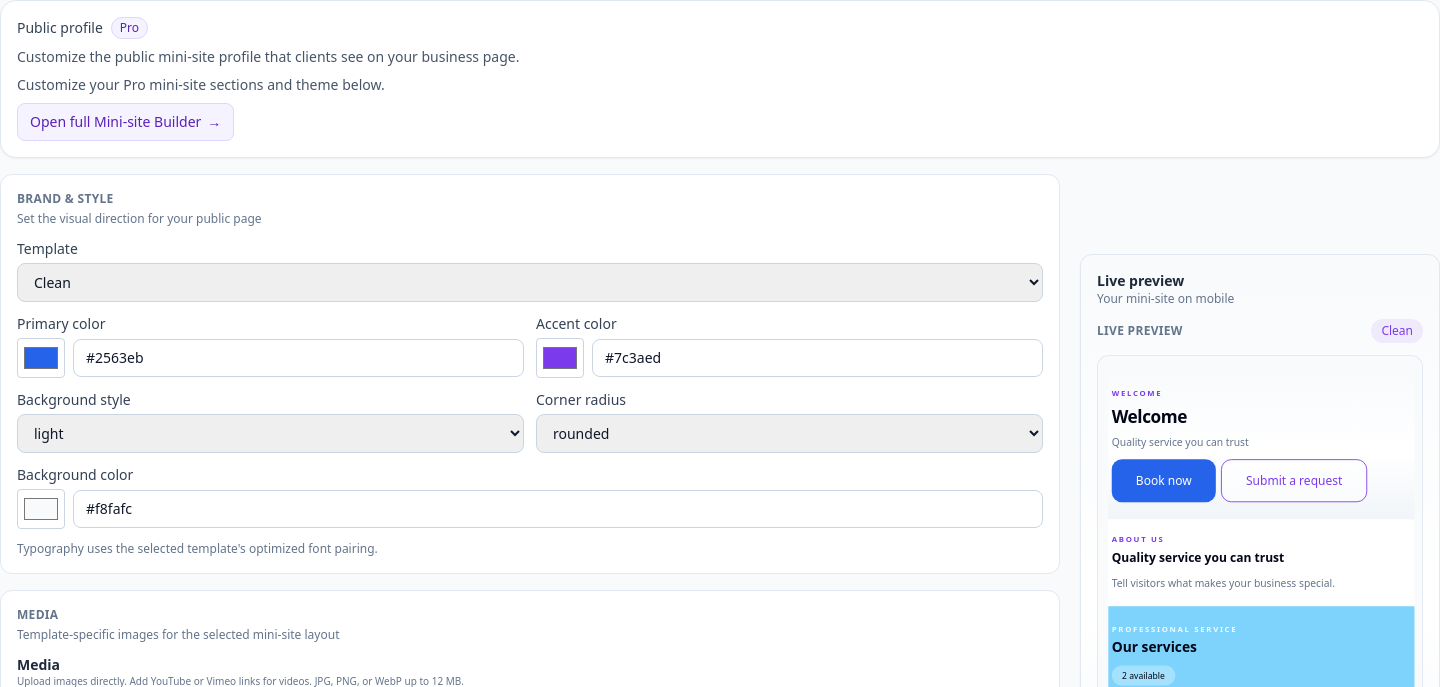
Test: PublicProfileSettingsCard › shows teacher video slots when teacher template is selected
Select "Teacher" in the dropdown with test id "mini-site-template" at (530, 282), box [17,263,1043,302]
(page scrolled)
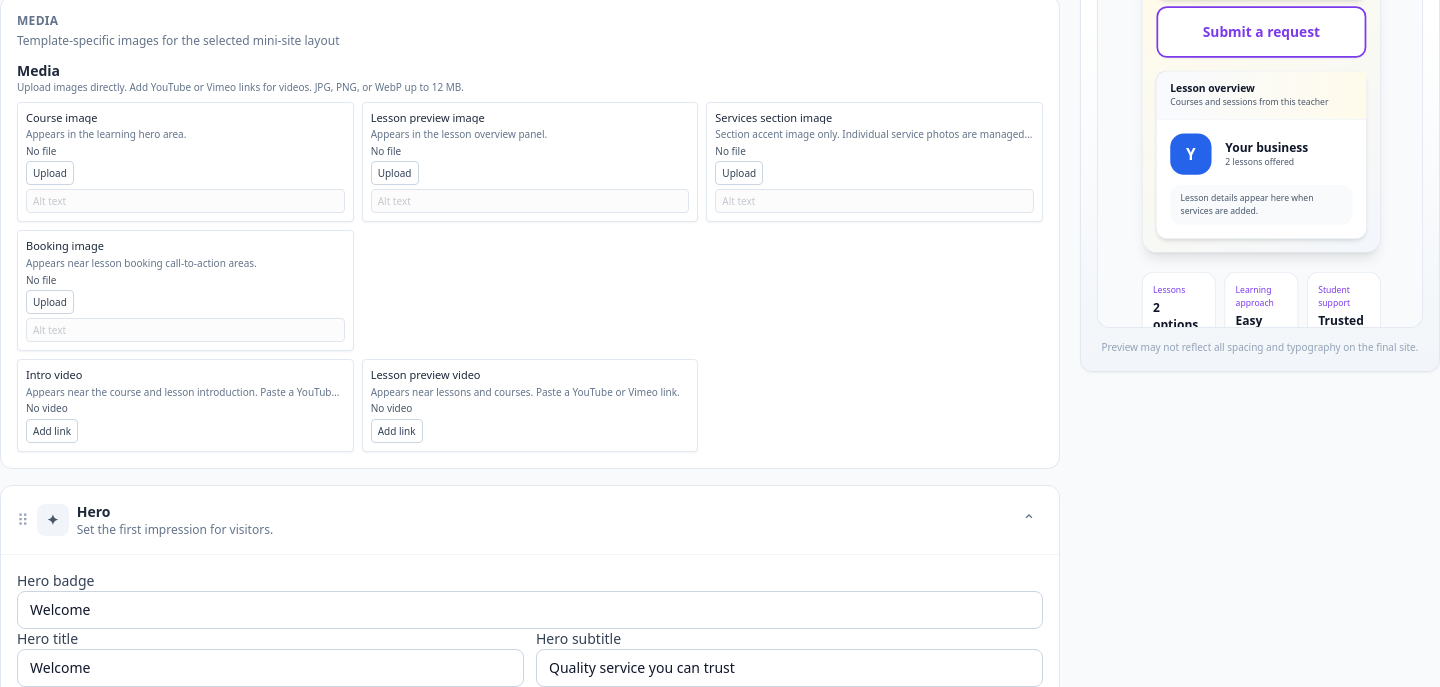
Expected: the element with test id "mini-site-media-slot-introVideo" is shown, [17,359,354,452]
Expected: the element with test id "mini-site-media-slot-lessonPreviewVideo" is shown, [362,359,698,452]
